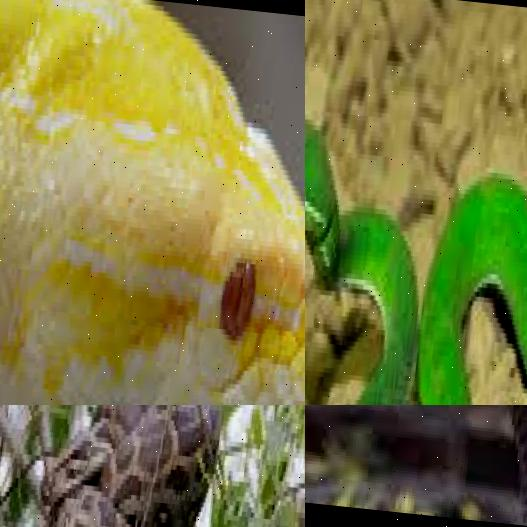snake: (0, 0, 305, 405), (305, 60, 527, 405), (24, 405, 305, 527), (305, 405, 527, 527)
